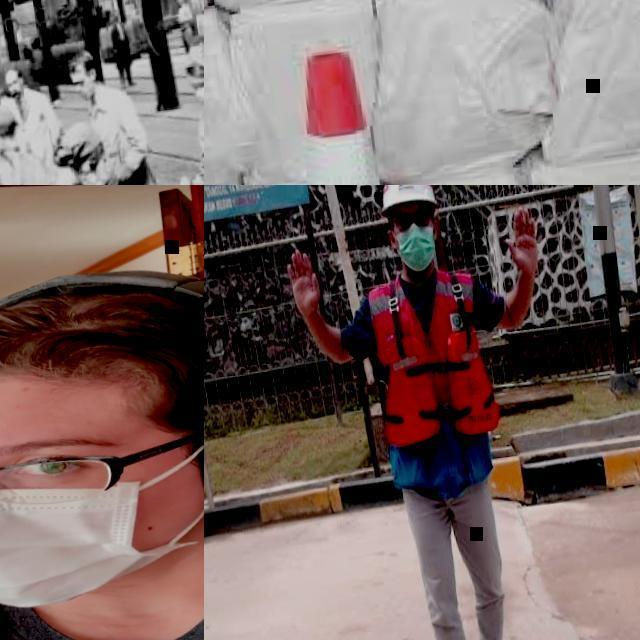helmet: (374, 185, 435, 209)
no_helmet: (0, 245, 204, 640), (51, 120, 106, 162), (179, 39, 204, 76), (65, 49, 98, 74), (0, 107, 22, 137), (2, 66, 23, 83), (110, 10, 120, 18), (174, 0, 187, 2)
